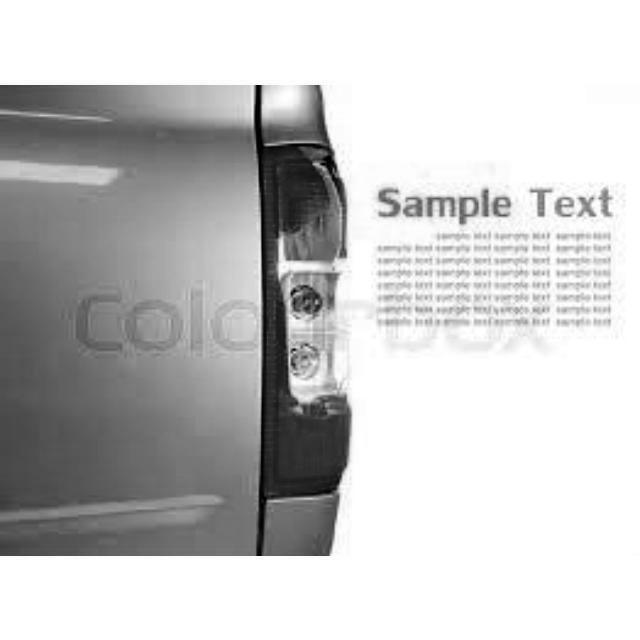Taillight-Damage: (252, 138, 349, 484)
